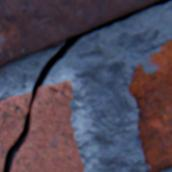brick: (0, 0, 160, 69), (127, 41, 171, 171)
broken_brick: (9, 82, 82, 171), (0, 94, 30, 171)
crack: (2, 0, 171, 171)
